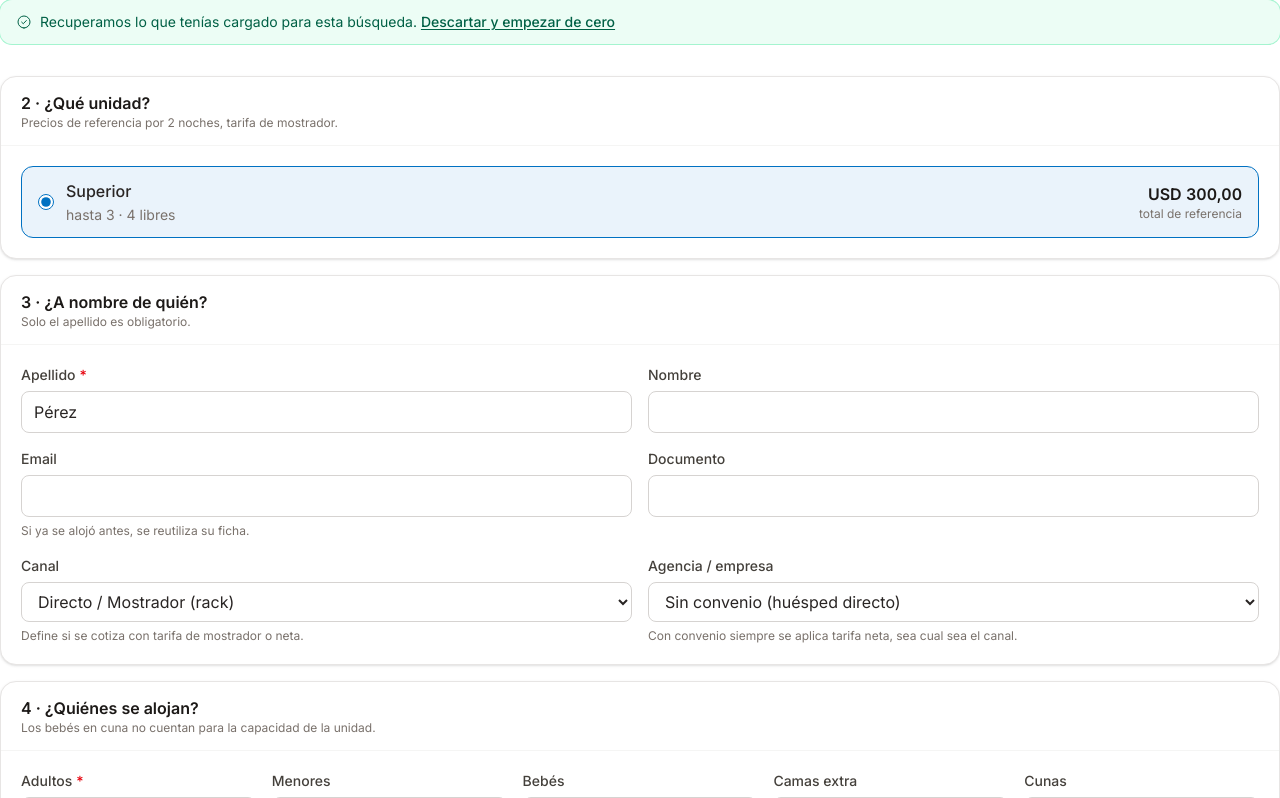
Scenario: FormularioReserva: borrador › al volver, se recupera y lo avisa; «Descartar» lo borra
The width and height of the screenshot is (1280, 798).
Expected: the text "Recuperamos lo que tenías cargado" is shown, x1=40 y1=13 x2=417 y2=30
Expected: the field labelled "Apellido*" holds "Pérez", x1=21 y1=391 x2=632 y2=433
Click the button "Descartar y empezar de cero" at (518,22), box x1=421 y1=12 x2=615 y2=32
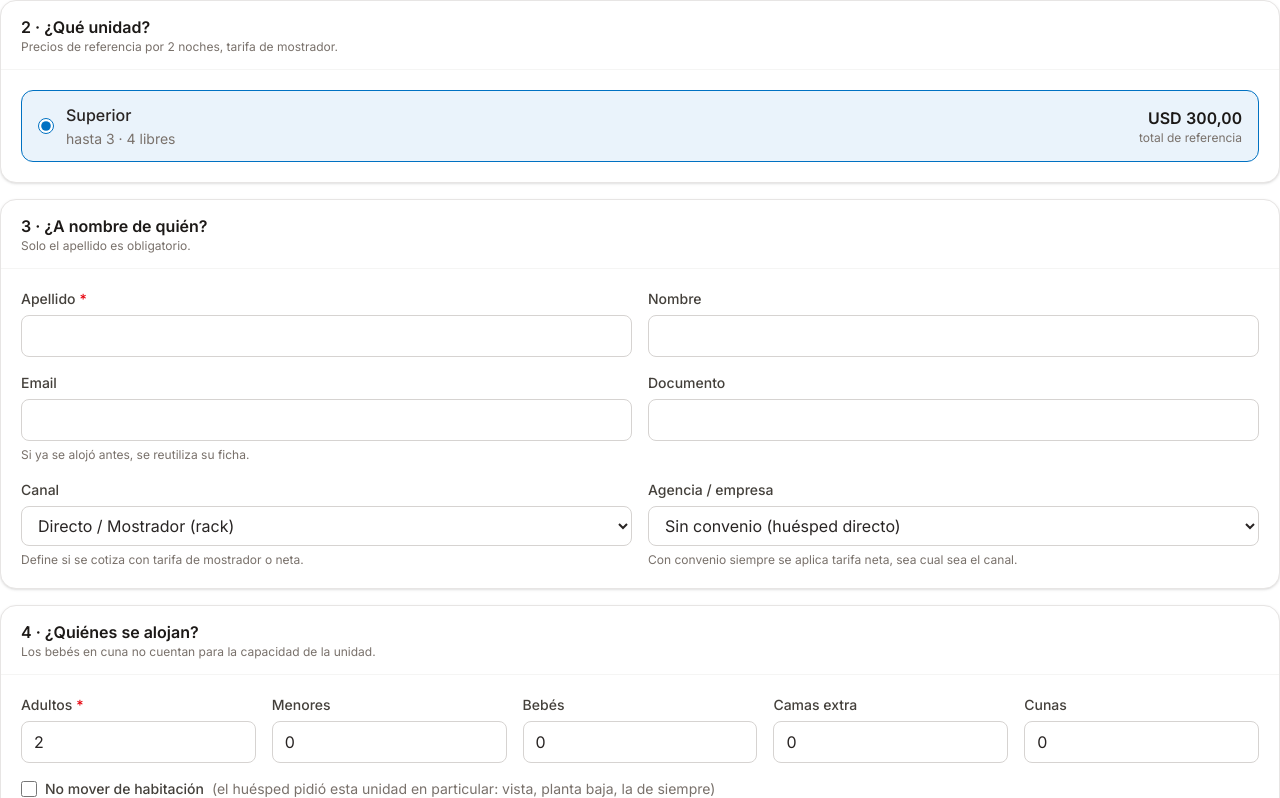
Now the text "Recuperamos lo que tenías cargado" is gone
Now the field labelled "Apellido*" is empty, box x1=21 y1=315 x2=632 y2=357
